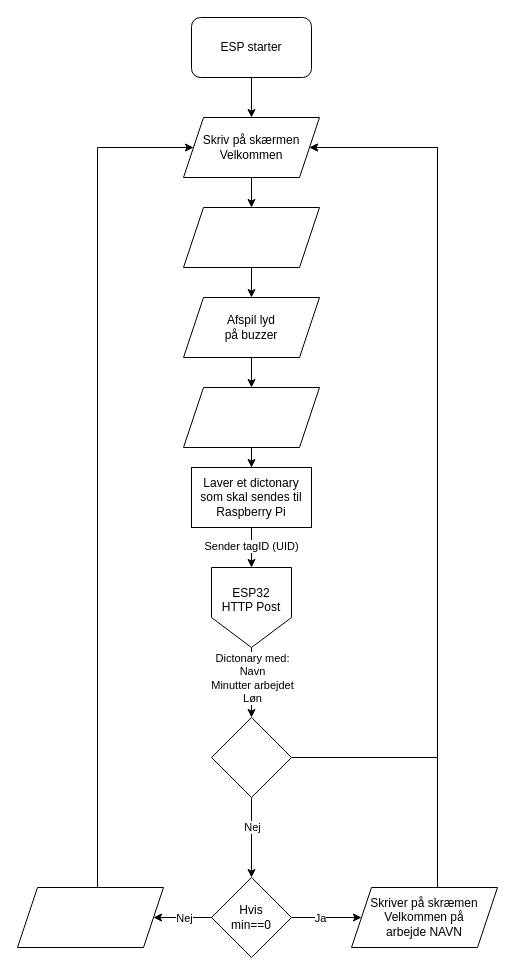
This 515x975 diagram has some shape labels left out. Each missing label, with the box of its shape:
Hvis None /Fejl: (210, 716, 292, 798)
Skriv på skærmen "Vent Venligst": (182, 386, 320, 448)
Skriver på skræmen God dag NAVN: (16, 886, 164, 948)
Venter på at scanne RFID tag: (182, 206, 320, 268)
